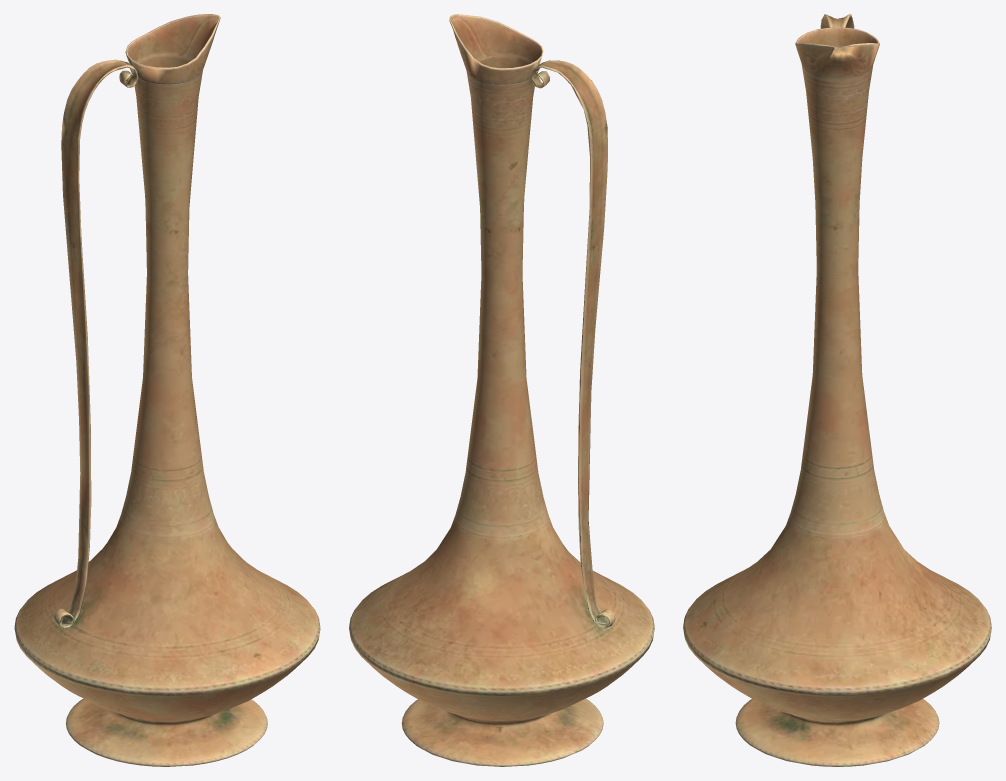
Rendered from prop-brassvase-b6dd2804.glb.
The picture shows the model from 3 angles, left to right: view 1: azimuth 30°, elevation 25°; view 2: azimuth 150°, elevation 25°; view 3: azimuth 270°, elevation 25°; orthographic projection.
Visible parts, largest first — view 1: brass_vase_02; view 2: brass_vase_02; view 3: brass_vase_02.
Part boxes in pixels (bbox=[...]): brass_vase_02: bbox=[14, 14, 320, 766]; brass_vase_02: bbox=[349, 14, 654, 766]; brass_vase_02: bbox=[683, 14, 991, 766].
Bounding box in the file's own units: 0.2103 × 0.5286 × 0.2103.
1 material, 1 textured.
